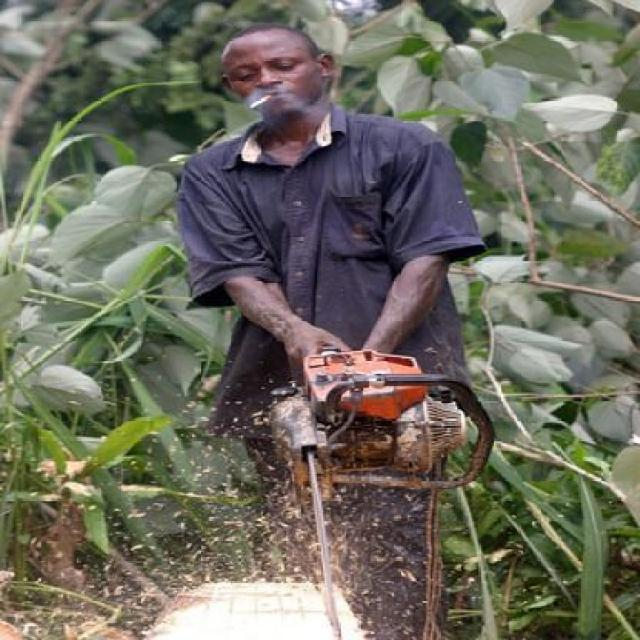Chainsaw: (269, 341, 462, 636)
